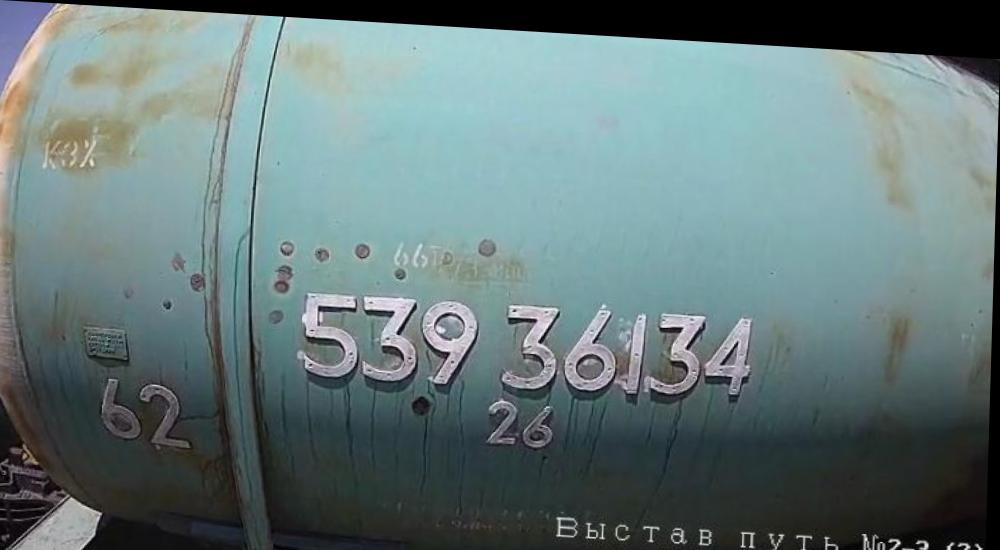Wagon-number: (296, 281, 766, 404)
